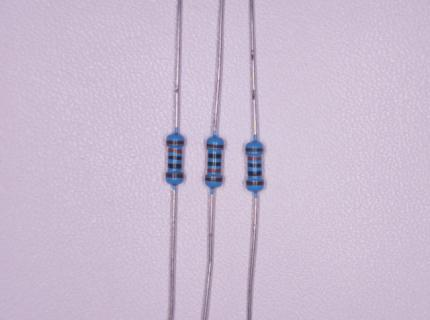Black band: (169, 164, 181, 169), (208, 154, 221, 158), (208, 162, 221, 166), (248, 163, 261, 167), (248, 172, 261, 176), (169, 156, 182, 160)
Brown band: (205, 177, 222, 182), (166, 174, 183, 178), (247, 181, 264, 185), (246, 148, 263, 152), (207, 144, 223, 148), (167, 141, 184, 144)
Orange band: (168, 148, 182, 154), (208, 169, 221, 173), (248, 157, 261, 161)
